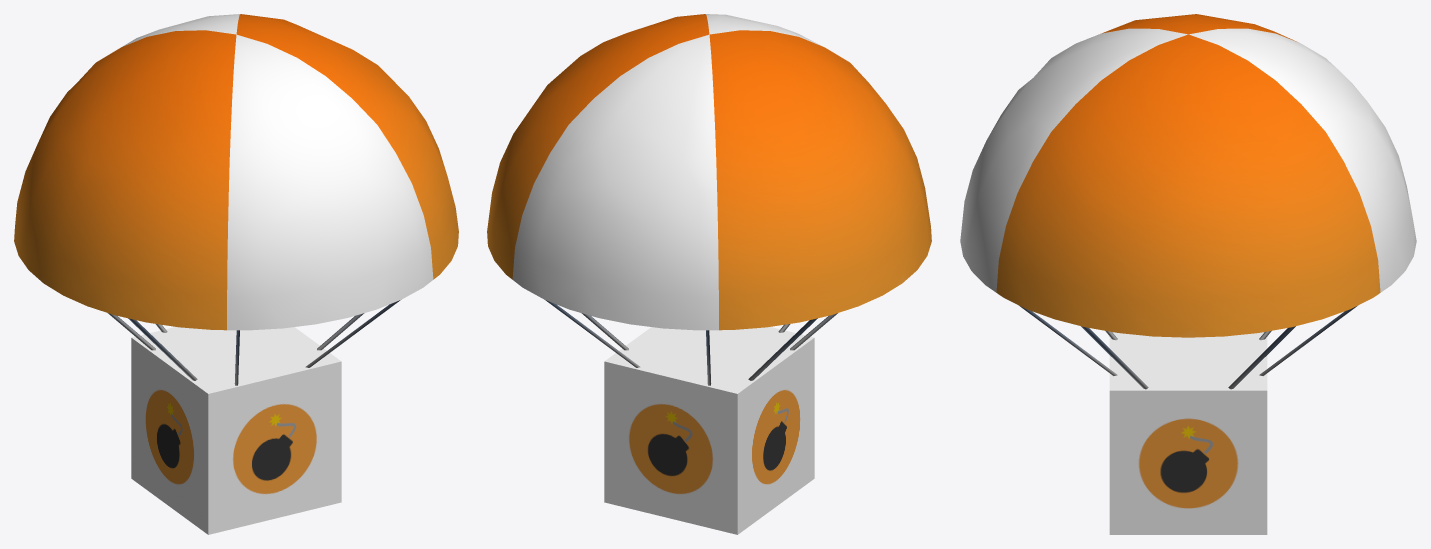
Rendered from Bomb_Bitcoin.FBX.
3 views of the same model, side by side, from view 1: azimuth 30°, elevation 25°; view 2: azimuth 150°, elevation 25°; view 3: azimuth 270°, elevation 25° (orthographic). The views are drawn at different scales.
Visible parts, largest first — view 1: Sphere009, clash baked002, Line048, Line047; view 2: Sphere009, clash baked002, Line049, Line050; view 3: Sphere009, clash baked002, Line049, Line048.
Part boxes in pixels (<box>): Sphere009: <box>14,14,458,330</box>; clash baked002: <box>131,327,341,534</box>; Line048: <box>305,300,400,367</box>; Line047: <box>128,318,239,385</box>; Sphere009: <box>487,14,931,330</box>; clash baked002: <box>604,327,814,534</box>; Line049: <box>545,300,640,367</box>; Line050: <box>706,318,817,385</box>; Sphere009: <box>960,14,1416,337</box>; clash baked002: <box>1109,332,1267,534</box>; Line049: <box>1228,306,1356,389</box>; Line048: <box>1020,306,1148,389</box>.
Size of the model in its own units: 73.02 by 73.02 by 82.47.
4 materials, 3 textured.
